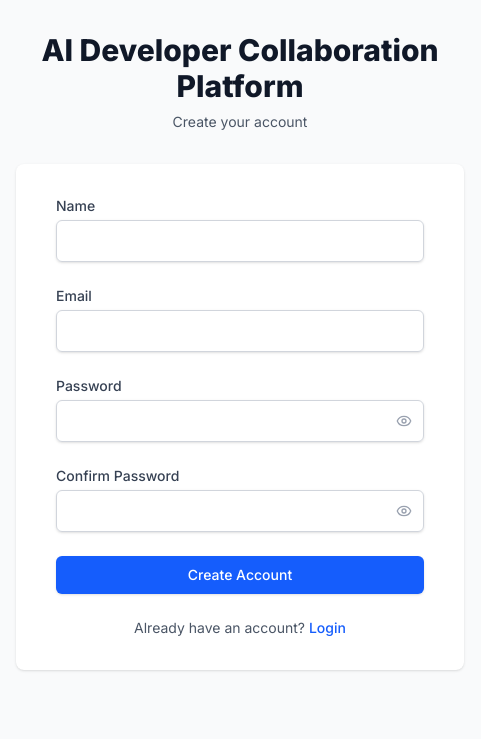
it: Register Page › 5. requires passwords to match
The image size is (481, 739).
Type "password123" into the password field labelled "Password". click: (240, 421)
box: [56,400,424,442]
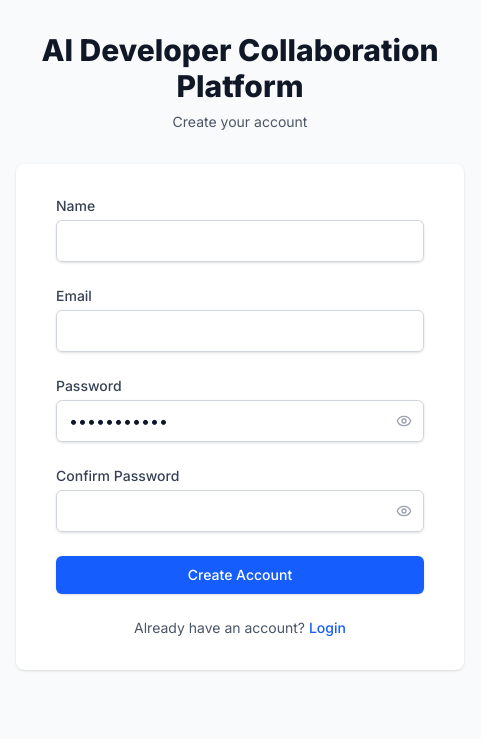
Type "password321" into the password field labelled "Confirm Password". click: (240, 511)
box: [56,490,424,532]
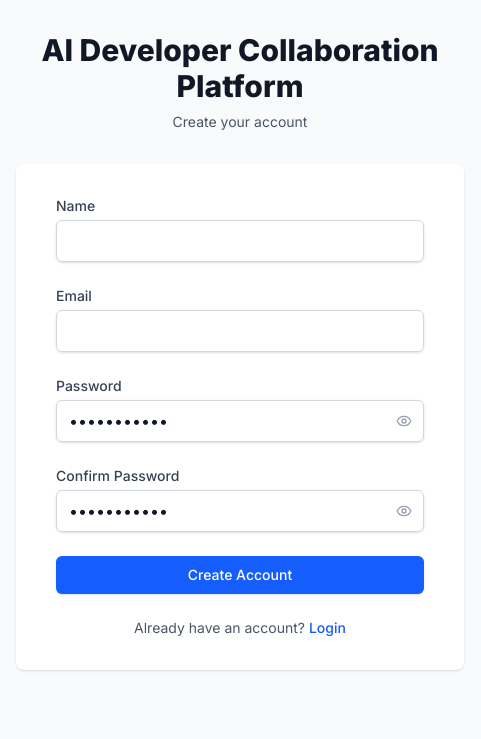
Click the button "Create Account". click: (240, 575)
box: [56,556,424,594]
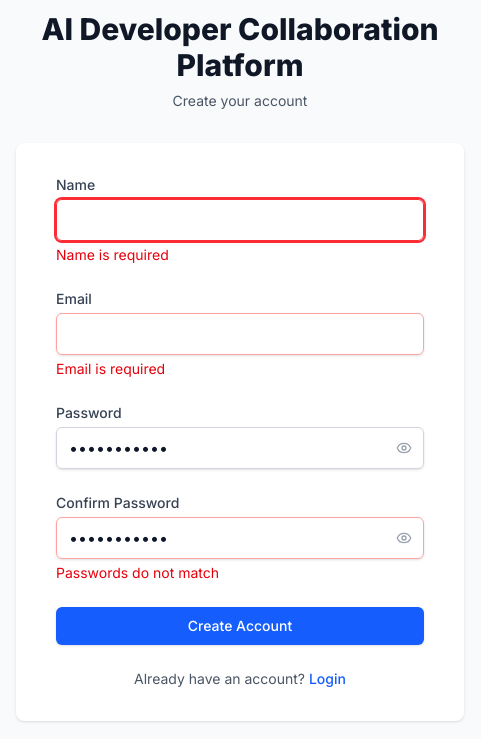
Expected: the text "Passwords do not match" is shown, [56,564,219,581]
